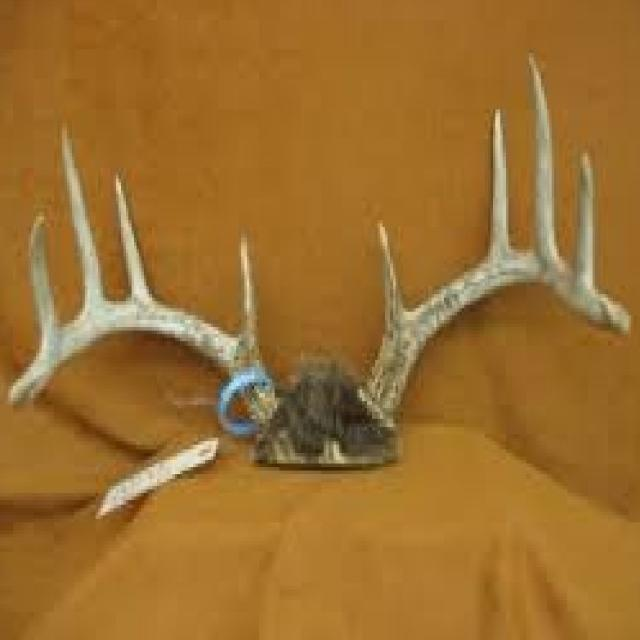L-F: (357, 249, 633, 431)
L-G1: (377, 217, 407, 329)
L-G2: (487, 107, 509, 251)
L-G3: (527, 49, 557, 252)
L-G4: (574, 149, 595, 288)
R-F: (7, 297, 287, 449)
R-G1: (235, 226, 261, 352)
R-G2: (114, 172, 155, 299)
R-G3: (58, 119, 108, 308)
R-G4: (27, 209, 65, 349)
